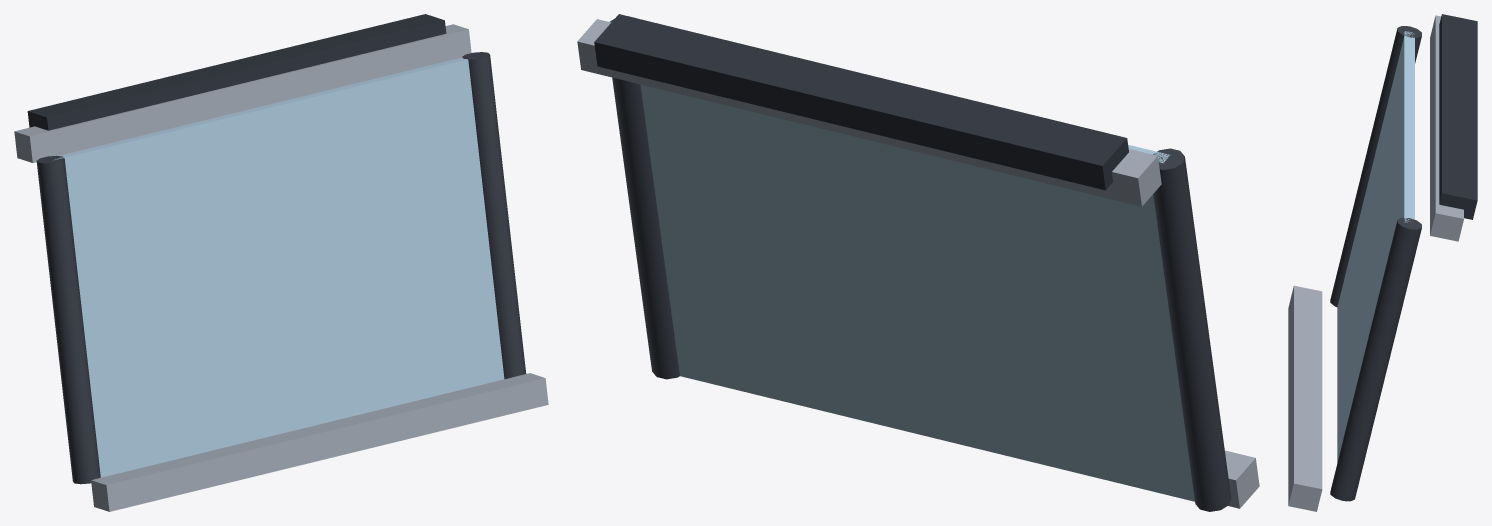
File: kvi-car-03.glb
3 views of the same model, side by side, from view 1: azimuth 30°, elevation 25°; view 2: azimuth 150°, elevation 25°; view 3: azimuth 270°, elevation 25° (orthographic). The views are drawn at different scales.
Visible parts, largest first — view 1: Parabrisas y techo de cabina; view 2: Parabrisas y techo de cabina; view 3: Parabrisas y techo de cabina.
Part boxes in pixels (x1,y1,x2,y2): Parabrisas y techo de cabina: (14, 14, 548, 511); Parabrisas y techo de cabina: (577, 14, 1259, 511); Parabrisas y techo de cabina: (1288, 14, 1477, 511).
Size of the model in its own units: 1 by 0.711 by 0.3944.
